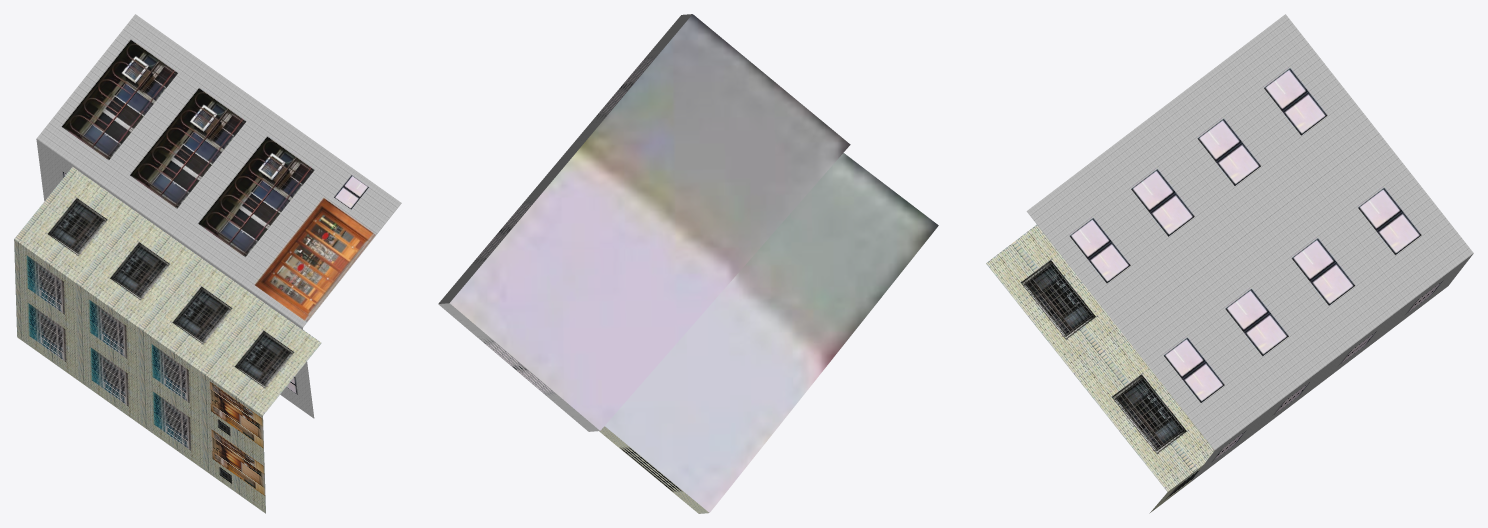
3 renders of one model, left to right at view 1: azimuth 30°, elevation 25°; view 2: azimuth 150°, elevation 25°; view 3: azimuth 270°, elevation 25°, orthographic. The views are drawn at different scales.
Bounding box in the file's own units: 19.63 × 21.91 × 21.46.
Materials: 9 (9 with a texture image).
